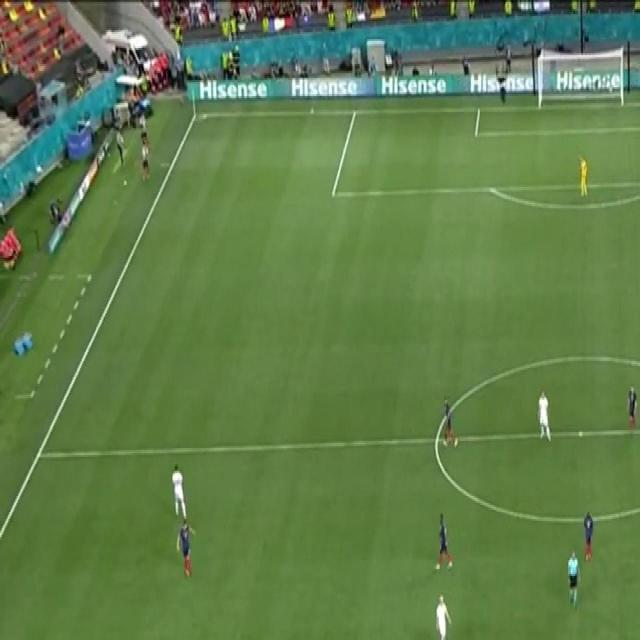ball: (122, 178, 128, 188)
player-white: (176, 518, 198, 580), (434, 512, 454, 572), (170, 462, 188, 522), (566, 549, 582, 609), (536, 389, 553, 444), (434, 592, 452, 640), (443, 396, 459, 448), (582, 510, 595, 562), (626, 383, 638, 437), (578, 154, 588, 198)
